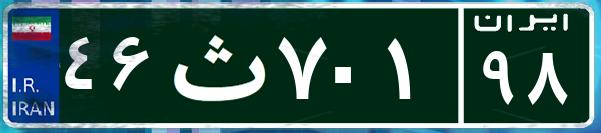0: (330, 28, 385, 110)
1: (385, 28, 445, 110)
4: (57, 26, 110, 107)
6: (110, 28, 158, 105)
7: (273, 28, 330, 110)
8: (525, 38, 570, 115)
9: (475, 38, 525, 113)
ث: (158, 15, 273, 115)
